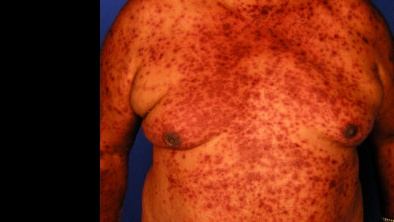SJS-TEN: (94, 3, 382, 222)
